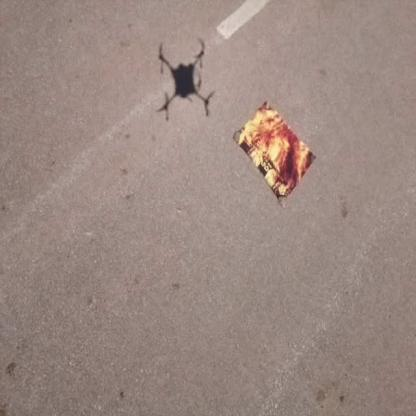fire-poster: (232, 99, 316, 206)
